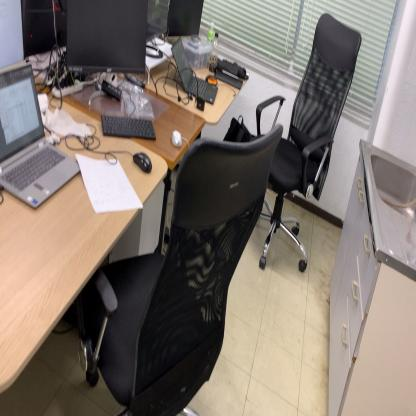chair: (79, 124, 284, 415), (244, 12, 363, 273)
